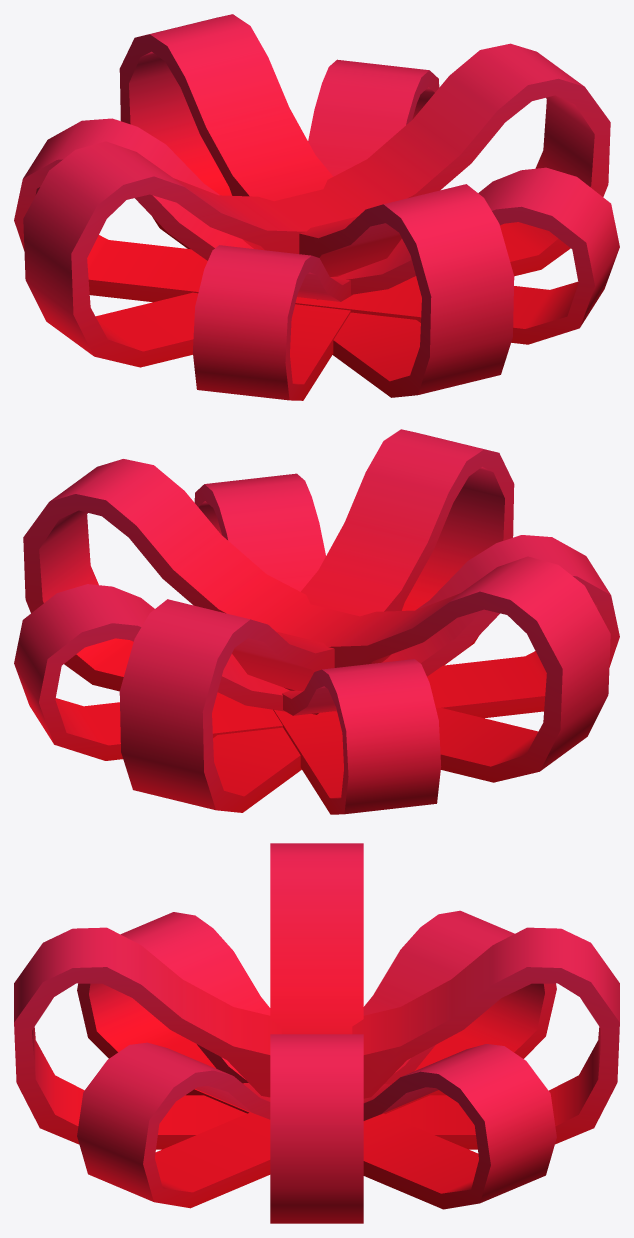
File: bow_004.fbx
3 views of the same model, one above another, from view 1: azimuth 30°, elevation 25°; view 2: azimuth 150°, elevation 25°; view 3: azimuth 270°, elevation 25° (orthographic). The views are drawn at different scales.
Parts seen in each view (by area): view 1: bow_004; view 2: bow_004; view 3: bow_004.
Part boxes in pixels (box(x1,y1,x2,y2)): bow_004: box(14, 14, 619, 400); bow_004: box(14, 429, 619, 814); bow_004: box(14, 843, 619, 1223).
Size of the model in its own units: 195 by 195 by 65.41.
